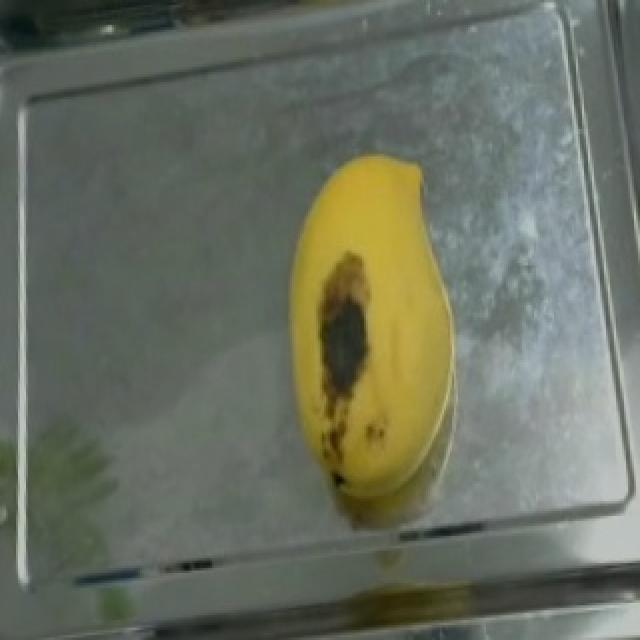fruit: (256, 134, 502, 508)
